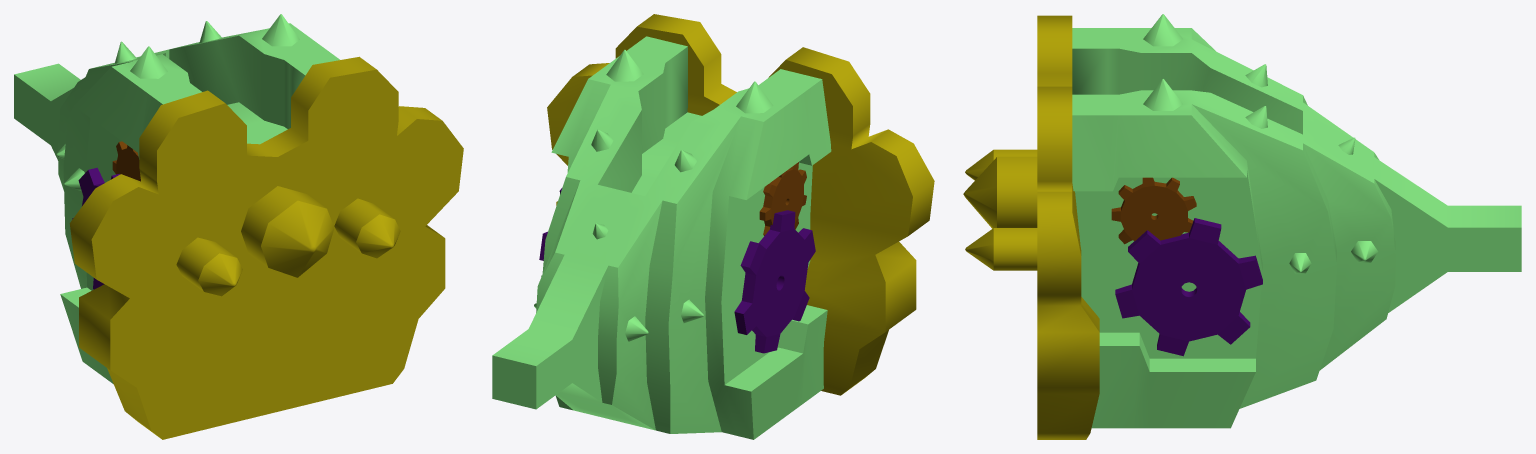
Rendered from BasePuncher_V1.fbx.
The picture shows the model from 3 angles, left to right: view 1: azimuth 30°, elevation 25°; view 2: azimuth 150°, elevation 25°; view 3: azimuth 270°, elevation 25°; orthographic projection. The views are drawn at different scales.
Parts seen in each view (by area): view 1: MetalFistHitter, MetalFistHandler, GearSmall1, GearBig1; view 2: MetalFistHandler, MetalFistHitter, GearBig1, GearSmall1; view 3: MetalFistHandler, MetalFistHitter, GearBig2, GearSmall2.
Boxes of the visible parts, bbox=[...] form: MetalFistHitter: bbox=[69, 56, 463, 439]; MetalFistHandler: bbox=[14, 14, 339, 383]; GearSmall1: bbox=[112, 141, 140, 181]; GearBig1: bbox=[72, 167, 119, 289]; MetalFistHandler: bbox=[492, 36, 831, 439]; MetalFistHitter: bbox=[547, 14, 934, 395]; GearBig1: bbox=[734, 210, 815, 353]; GearSmall1: bbox=[759, 162, 806, 235]; MetalFistHandler: bbox=[1072, 14, 1521, 428]; MetalFistHitter: bbox=[963, 15, 1099, 439]; GearBig2: bbox=[1115, 218, 1262, 356]; GearSmall2: bbox=[1111, 177, 1196, 244].
Bounding box in the file's own units: 68.09 × 58.7 × 88.13.
